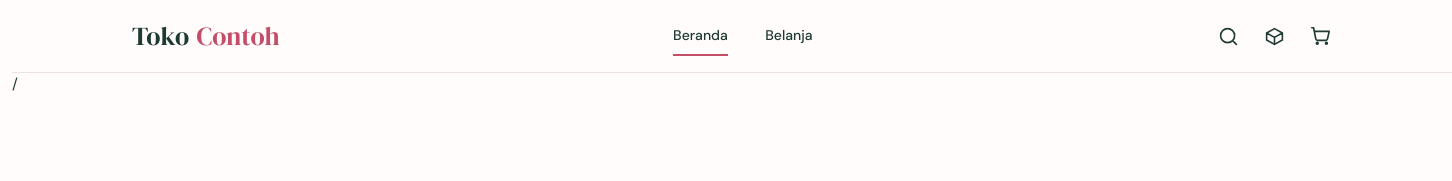
it: Header › searches the catalogue, trimmed, and closes the bar on the way
Click the button named "Cari produk". click: {"x": 1228, "y": 36}
box: [1206,14,1250,58]
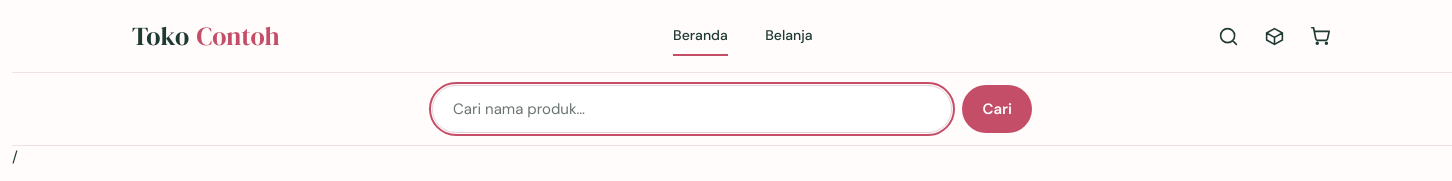
Type "  almond  " into the search field with placeholder "Cari nama produk…". click: {"x": 692, "y": 109}
box: [432,85,952,133]
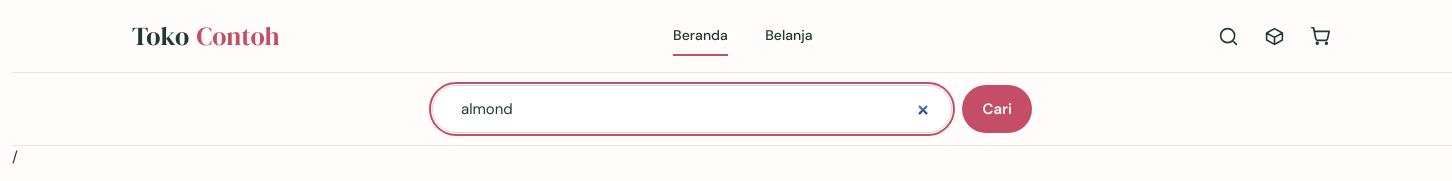
Submit the form, box [392,73,1072,145]
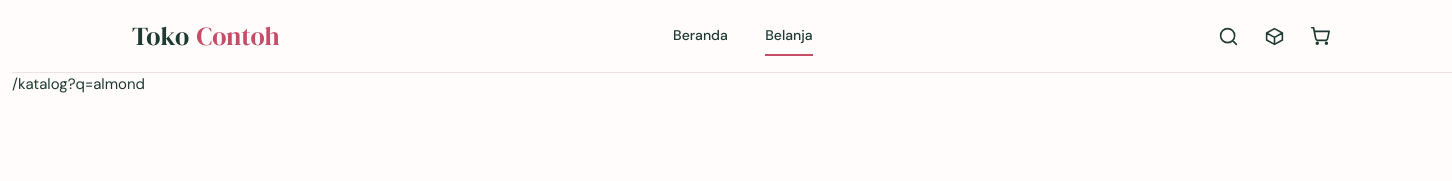
Expected: the text with test id "where" reads "/katalog?q=almond", [12,74,145,94]
Expected: the element with id "bl-search" is gone
